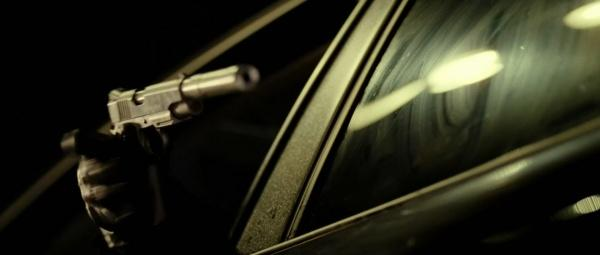Gun: (108, 61, 263, 143)
